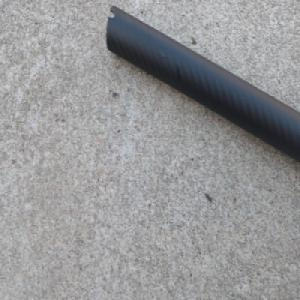LuggagePart: (106, 1, 300, 168)
